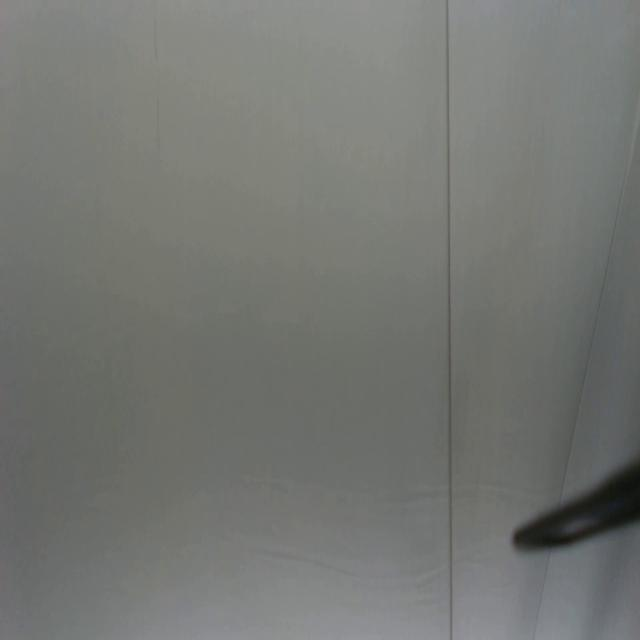crease: (564, 154, 634, 466), (443, 1, 455, 640)
